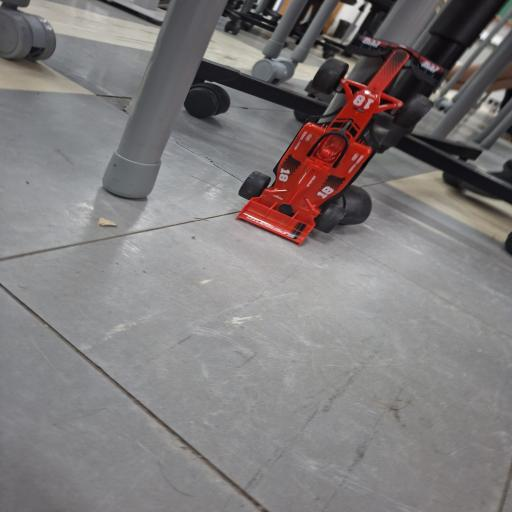carro: (211, 28, 455, 260)
